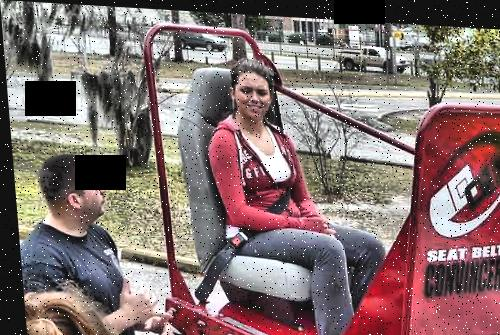seatbelt: (215, 161, 314, 253)
